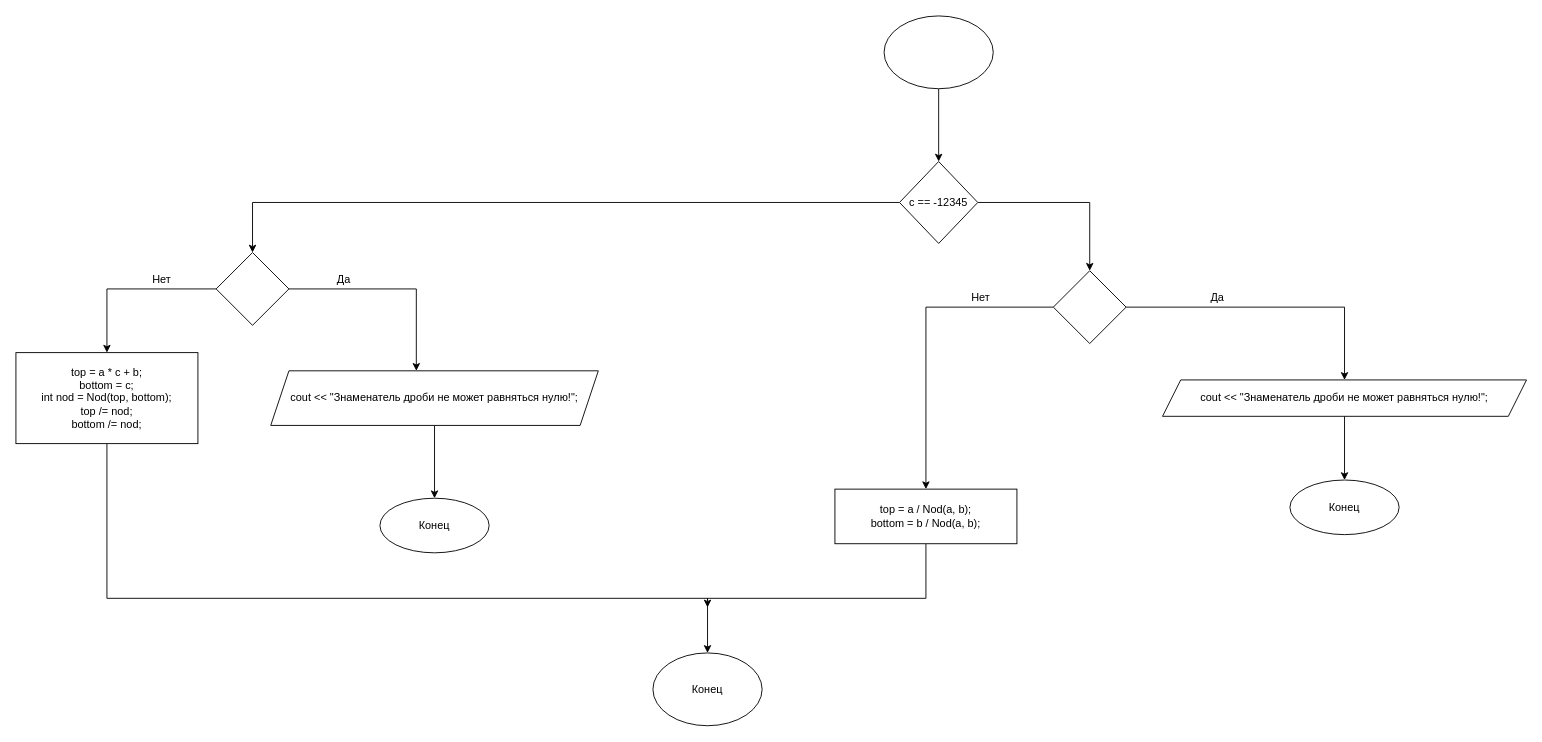
The diagram is 1542 pixels wide and 742 high, and some of its shapes have lost their labels. The shapes that lost their labels are listed below. From the top down, each one's box as (x1, y1, x2, y2) in pixels, then its label:
(883, 15, 993, 89): Начало
(215, 252, 289, 325): c == 0
(1052, 270, 1126, 344): b == 0
